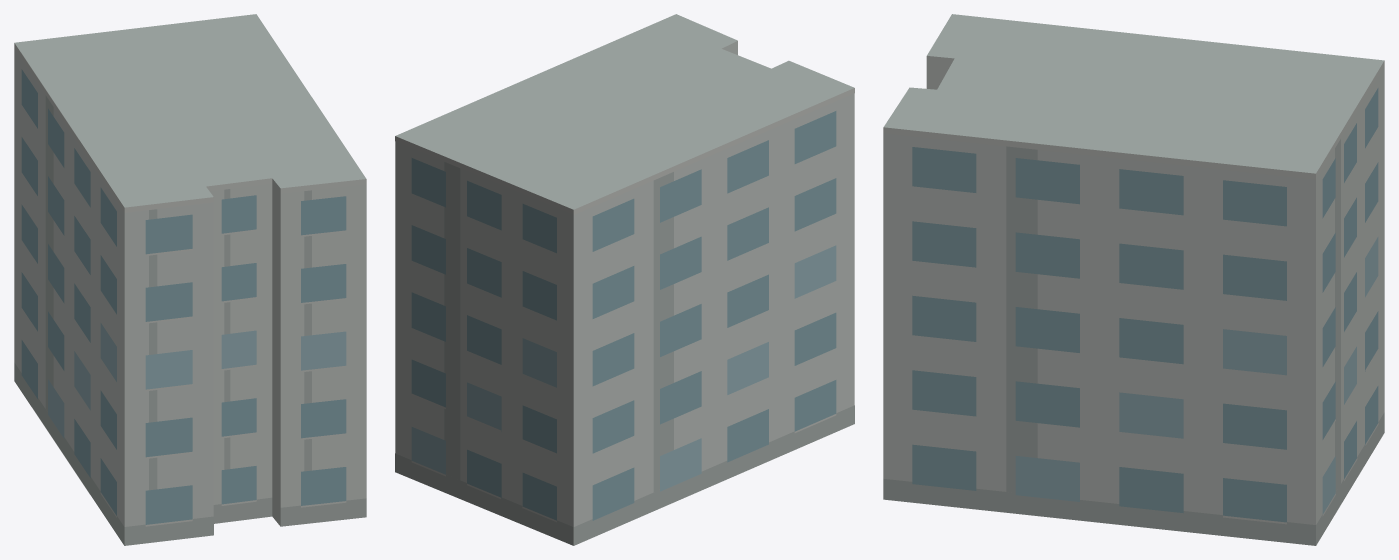
File: survey-upis-32868529.glb
The picture shows the model from 3 angles, left to right: view 1: azimuth 30°, elevation 25°; view 2: azimuth 150°, elevation 25°; view 3: azimuth 270°, elevation 25°; orthographic projection. The views are drawn at different scales.
Visible parts, largest first — view 1: survey-upis-32868529.tmp; view 2: survey-upis-32868529.tmp; view 3: survey-upis-32868529.tmp.
Boxes of the visible parts, x1=… form: survey-upis-32868529.tmp: x1=14, y1=14, x2=366, y2=545; survey-upis-32868529.tmp: x1=395, y1=14, x2=854, y2=545; survey-upis-32868529.tmp: x1=883, y1=14, x2=1384, y2=545.
Bounding box in the file's own units: 14.03 × 15.25 × 18.61.
